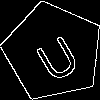U: (28, 26, 84, 84)
